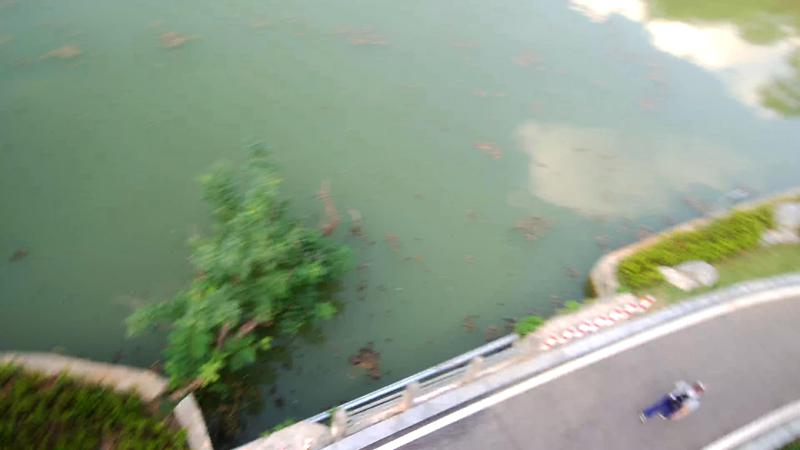passerby: (635, 375, 706, 422)
